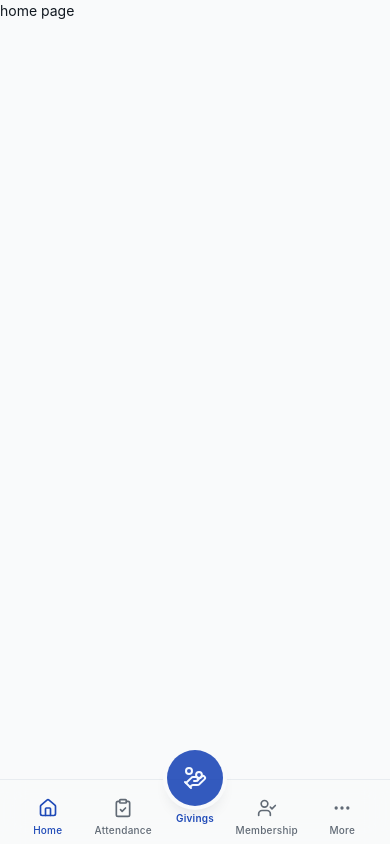
Test case: MobileTabBar › lists leftover destinations in More and not promoted tabs
What coordinates should you click on to do the following:
click the button "More"
I would click on:
 (342, 814)
Its box is [306,790,378,838].
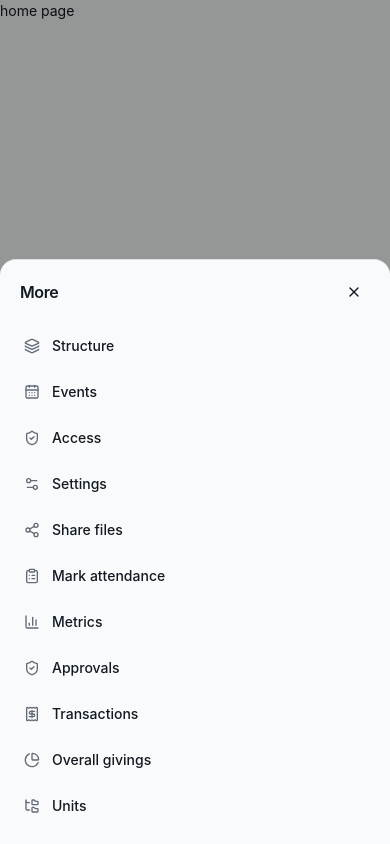
Expected: the dialog "More" shows "Structure", [12,324,378,368]
Expected: the dialog "More" shows "Settings", [12,462,378,506]
Expected: the dialog "More" shows "Units", [12,784,378,828]
